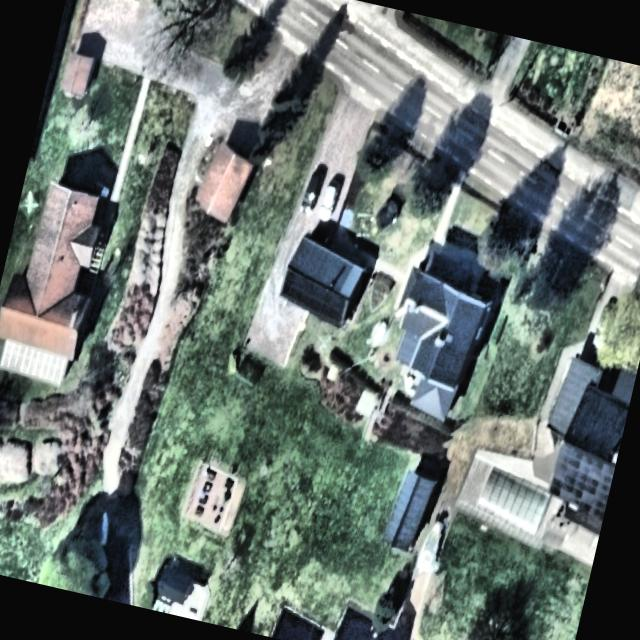roof_pv: (549, 444, 617, 516), (277, 267, 350, 325)
